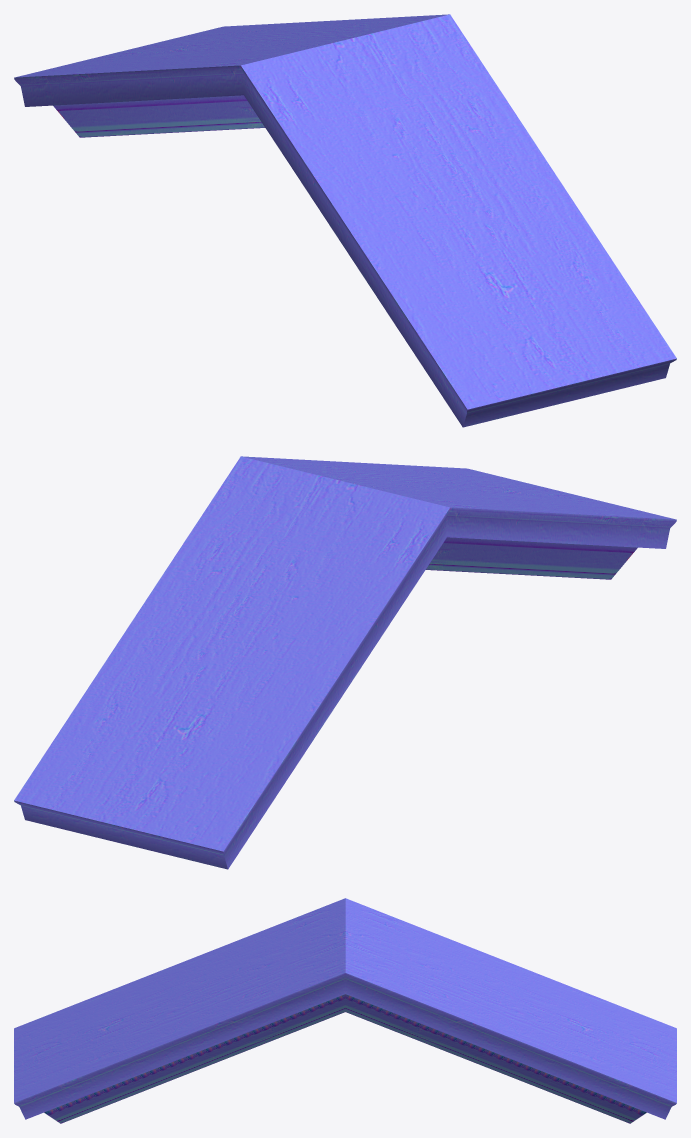
Rendered from Ceiling_Roof01.FBX.
3 views of the same model, one above another, from view 1: azimuth 30°, elevation 25°; view 2: azimuth 150°, elevation 25°; view 3: azimuth 270°, elevation 25° (orthographic). The views are drawn at different scales.
Parts seen in each view (by area): view 1: Box105; view 2: Box105; view 3: Box105.
Boxes of the visible parts, left/top/right/bottom form: Box105: left=14, top=14, right=676, bottom=427; Box105: left=14, top=456, right=676, bottom=869; Box105: left=14, top=898, right=676, bottom=1123.
Size of the model in its own units: 763 by 777 by 2862.
